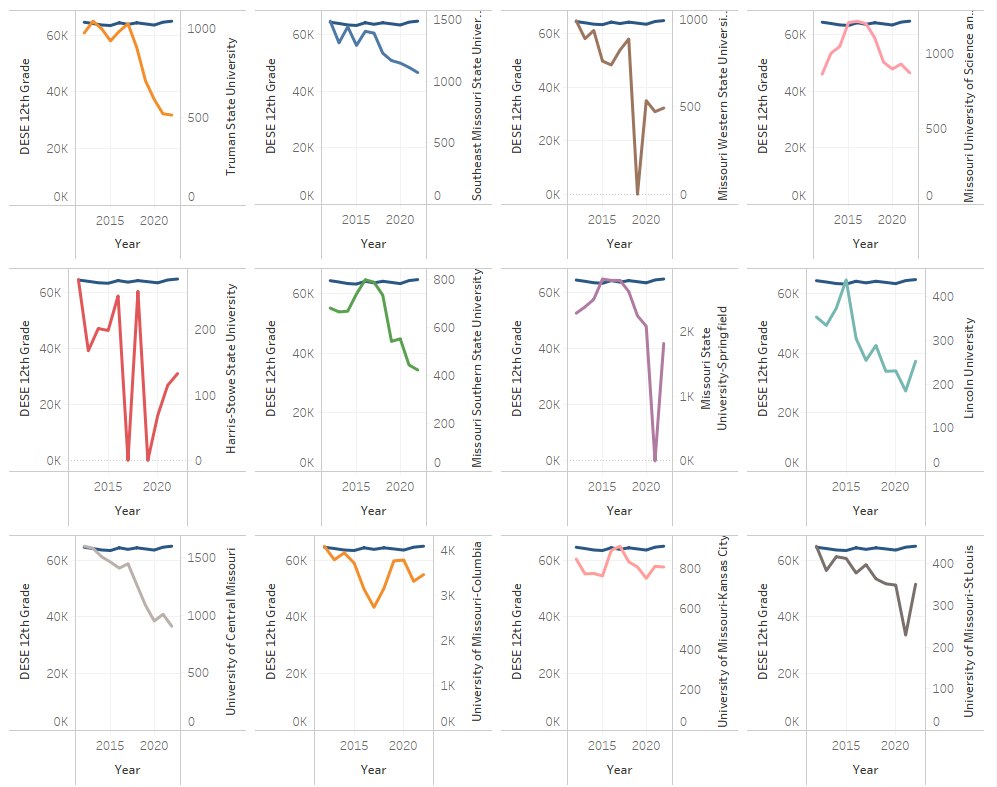

This screenshot's page, from the dashboard's own definition file:
{"tool":"tableau","page":{"name":"Dashboard 1","canvas":[1000,800],"ordinal":0},"visuals":[{"type":"worksheet","title":"LineGraph_Truman","mark":"Automatic","rows":["DESE 12th Grade","Truman State University"],"cols":["Year"],"box":[8,8,246,258]},{"type":"worksheet","title":"LineGraph_SEMO","mark":"Automatic","rows":["DESE 12th Grade","Southeast Missouri State University"],"cols":["Year"],"box":[254,8,246,258]},{"type":"worksheet","title":"LineGraph_MOWest","mark":"Automatic","rows":["DESE 12th Grade","Missouri Western State University"],"cols":["Year"],"box":[500,8,246,258]},{"type":"worksheet","title":"LineGraph_MOST","mark":"Automatic","rows":["DESE 12th Grade","Missouri University of Science and Technology"],"cols":["Year"],"box":[746,8,246,258]},{"type":"worksheet","title":"LineGraph_HarrisStowe","mark":"Automatic","rows":["DESE 12th Grade","Harris-Stowe State University"],"cols":["Year"],"box":[8,266,246,267]},{"type":"worksheet","title":"LineGraph_MOSouthern","mark":"Automatic","rows":["DESE 12th Grade","Missouri Southern State University"],"cols":["Year"],"box":[254,266,246,267]},{"type":"worksheet","title":"LineGraph_MOState","mark":"Automatic","rows":["DESE 12th Grade","Missouri State University-Springfield"],"cols":["Year"],"box":[500,266,246,267]},{"type":"worksheet","title":"LineGraph_Lincoln","mark":"Automatic","rows":["DESE 12th Grade","Lincoln University"],"cols":["Year"],"box":[746,266,246,267]},{"type":"worksheet","title":"LineGraph_UCM","mark":"Automatic","rows":["DESE 12th Grade","University of Central Missouri"],"cols":["Year"],"box":[8,533,246,259]},{"type":"worksheet","title":"LineGraph_MU","mark":"Automatic","rows":["DESE 12th Grade","University of Missouri-Columbia"],"cols":["Year"],"box":[254,533,246,259]},{"type":"worksheet","title":"LineGraph_UMKC","mark":"Automatic","rows":["DESE 12th Grade","University of Missouri-Kansas City"],"cols":["Year"],"box":[500,533,246,259]},{"type":"worksheet","title":"LineGraph_UMSL","mark":"Automatic","rows":["DESE 12th Grade","University of Missouri-St Louis"],"cols":["Year"],"box":[746,533,246,259]}]}

Visuals, with their boxes in screenshot pixels (x1, y1, x2, y2), scaled from the page's 1000x800 canvas onto the 997x787 screenshot:
"LineGraph_Truman" worksheet: (left=8, top=8, right=253, bottom=262)
"LineGraph_SEMO" worksheet: (left=253, top=8, right=498, bottom=262)
"LineGraph_MOWest" worksheet: (left=498, top=8, right=744, bottom=262)
"LineGraph_MOST" worksheet: (left=744, top=8, right=989, bottom=262)
"LineGraph_HarrisStowe" worksheet: (left=8, top=262, right=253, bottom=524)
"LineGraph_MOSouthern" worksheet: (left=253, top=262, right=498, bottom=524)
"LineGraph_MOState" worksheet: (left=498, top=262, right=744, bottom=524)
"LineGraph_Lincoln" worksheet: (left=744, top=262, right=989, bottom=524)
"LineGraph_UCM" worksheet: (left=8, top=524, right=253, bottom=779)
"LineGraph_MU" worksheet: (left=253, top=524, right=498, bottom=779)
"LineGraph_UMKC" worksheet: (left=498, top=524, right=744, bottom=779)
"LineGraph_UMSL" worksheet: (left=744, top=524, right=989, bottom=779)
